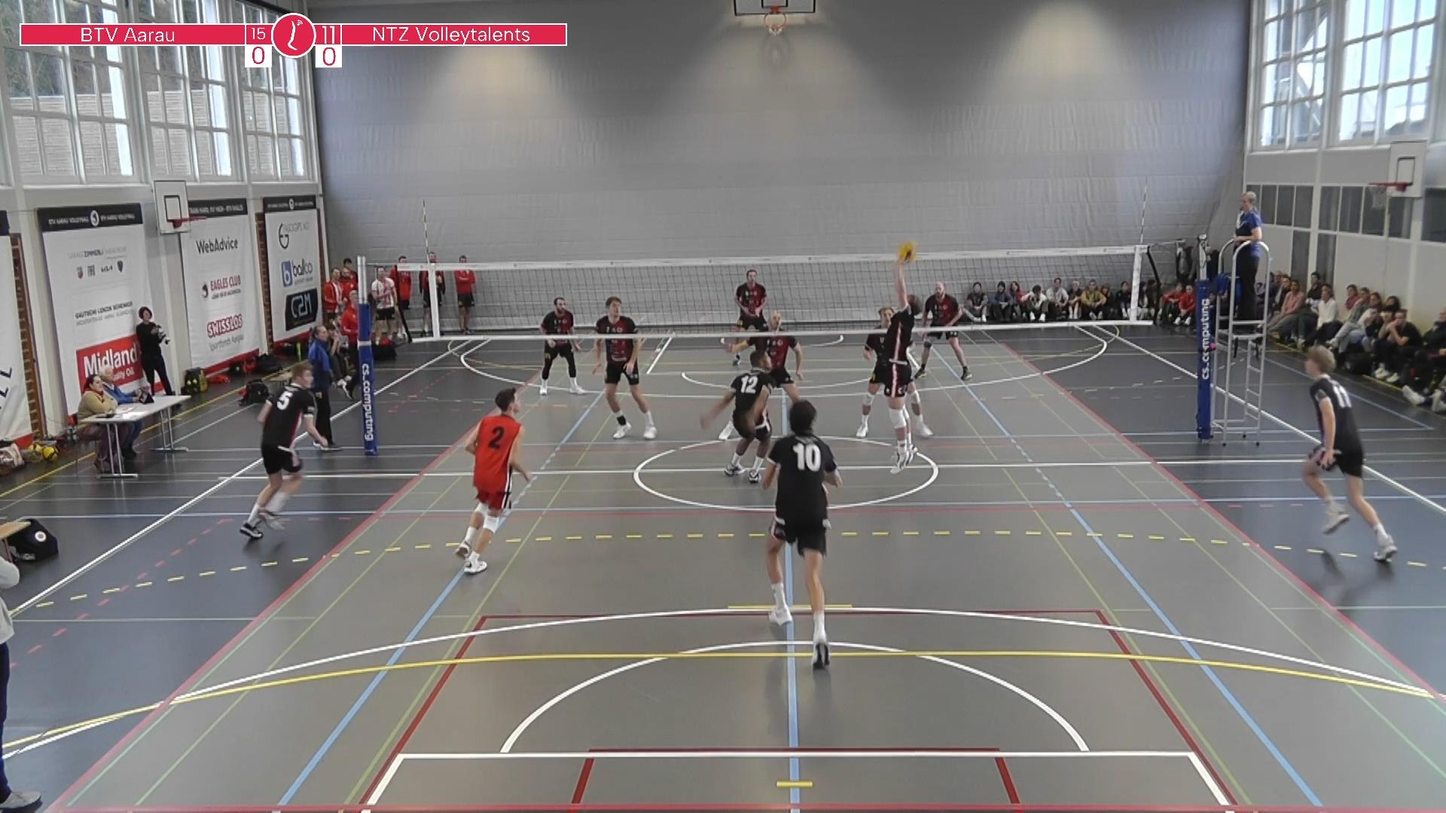Player: (764, 400, 842, 667), (1302, 346, 1396, 562), (239, 362, 328, 539), (456, 388, 531, 574), (700, 349, 772, 483), (593, 296, 656, 439), (917, 282, 970, 379), (856, 306, 892, 437), (754, 312, 803, 403), (539, 297, 583, 395), (734, 269, 767, 331)
Set: (878, 272, 924, 473)
ball: (900, 240, 916, 267)
